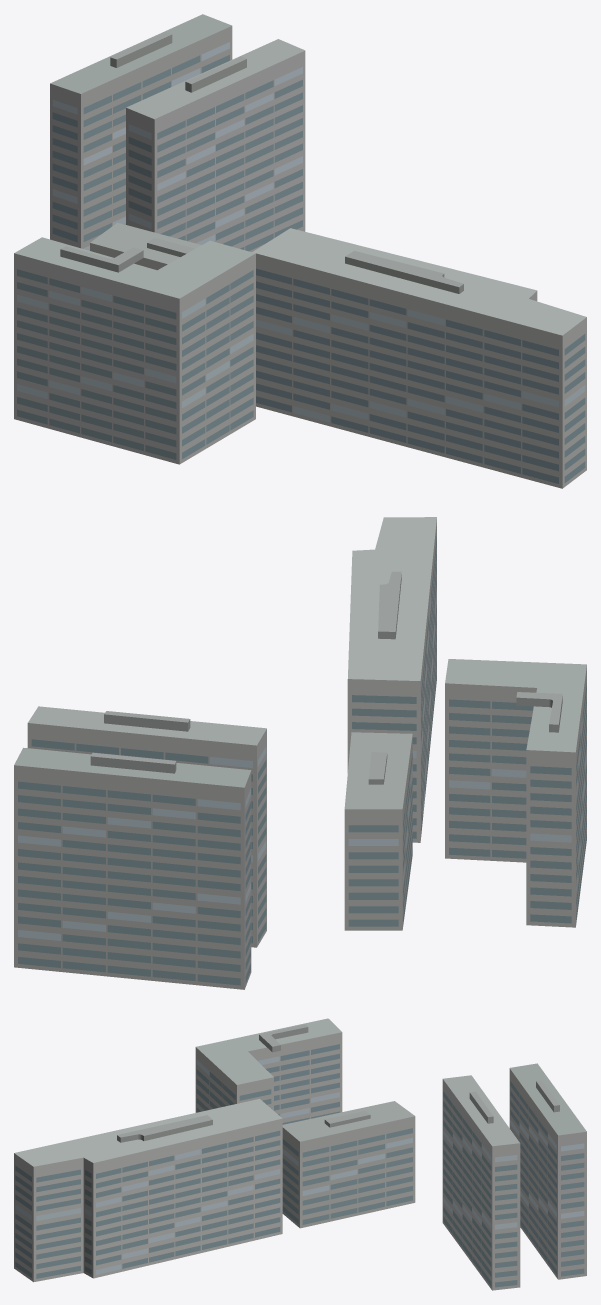
File: apt-a15283702.glb
3 views of the same model, one above another, from view 1: azimuth 30°, elevation 25°; view 2: azimuth 150°, elevation 25°; view 3: azimuth 270°, elevation 25° (orthographic). The views are drawn at different scales.
Parts seen in each view (by area): view 1: apt-a15283702; view 2: apt-a15283702; view 3: apt-a15283702.
Boxes of the visible parts, left/top/right/bottom form: apt-a15283702: left=14, top=14, right=586, bottom=488; apt-a15283702: left=14, top=517, right=586, bottom=989; apt-a15283702: left=14, top=1018, right=586, bottom=1290.
Bounding box in the file's own units: 100 × 47.81 × 165.
